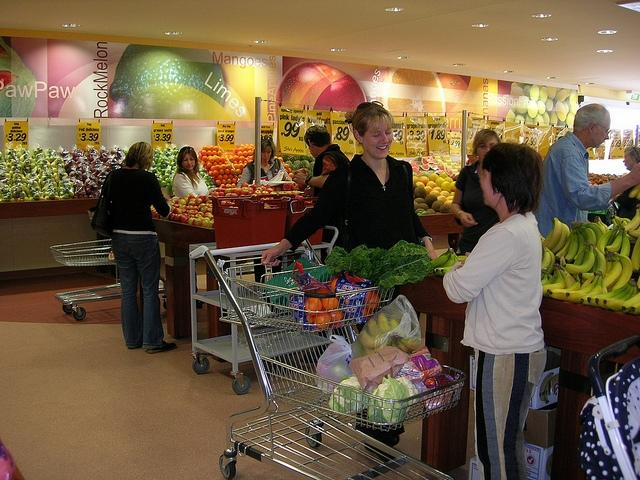apple: (192, 218, 202, 226), (178, 215, 188, 223), (200, 206, 209, 214), (234, 188, 241, 197), (240, 189, 250, 195), (298, 184, 308, 190), (205, 195, 212, 203), (168, 213, 175, 221), (188, 194, 195, 202), (207, 220, 214, 228), (202, 195, 208, 203), (160, 214, 168, 220), (260, 186, 266, 192), (19, 156, 25, 162), (6, 192, 12, 198), (230, 188, 237, 193), (186, 205, 193, 210), (194, 214, 202, 218), (254, 190, 262, 194), (69, 150, 75, 155), (42, 176, 48, 181), (185, 218, 190, 223), (25, 175, 30, 180), (159, 175, 164, 180), (240, 194, 246, 198), (82, 175, 88, 179), (38, 192, 44, 196), (190, 198, 196, 202), (172, 206, 176, 211), (28, 194, 33, 198), (154, 158, 158, 163), (6, 173, 10, 178), (118, 147, 122, 152), (45, 156, 49, 160), (152, 210, 156, 214), (222, 185, 226, 189), (170, 150, 173, 155), (60, 196, 64, 199), (94, 196, 100, 198), (182, 214, 188, 216), (218, 186, 224, 188), (94, 154, 97, 156), (66, 174, 68, 177)
banana: (580, 282, 629, 306), (587, 282, 634, 307), (580, 243, 606, 281), (603, 283, 635, 312), (564, 246, 596, 274), (548, 276, 582, 301), (611, 253, 632, 291), (596, 225, 620, 256), (542, 266, 566, 296), (604, 256, 622, 290), (555, 227, 573, 260), (546, 218, 564, 250), (582, 222, 604, 246), (565, 230, 579, 264), (605, 228, 623, 253), (623, 208, 640, 234), (630, 234, 640, 274), (578, 226, 597, 247), (430, 250, 450, 268), (441, 254, 458, 274), (574, 228, 584, 261), (542, 265, 556, 286), (574, 243, 586, 266), (620, 230, 630, 257), (546, 248, 556, 274), (542, 245, 552, 271), (604, 253, 612, 278), (582, 241, 590, 264), (629, 300, 640, 315), (627, 228, 640, 240), (436, 266, 449, 276), (541, 274, 548, 285), (540, 234, 545, 243), (541, 272, 544, 281)
lettuce: (324, 239, 435, 298), (368, 374, 412, 423)
orange: (314, 310, 331, 329), (305, 298, 322, 316), (366, 290, 380, 310), (321, 298, 338, 310), (330, 309, 343, 324), (331, 278, 339, 292), (235, 168, 242, 176), (218, 168, 225, 176), (306, 316, 312, 324), (288, 172, 294, 179), (203, 146, 209, 152), (237, 151, 243, 157), (361, 309, 367, 315), (240, 156, 246, 162), (226, 178, 232, 184), (216, 150, 222, 156), (278, 156, 284, 162), (210, 166, 217, 171), (221, 178, 226, 184), (230, 168, 235, 174), (243, 150, 248, 156), (239, 147, 244, 152), (230, 156, 234, 162), (244, 144, 250, 147), (250, 144, 254, 148), (206, 161, 209, 165), (208, 156, 212, 158)
